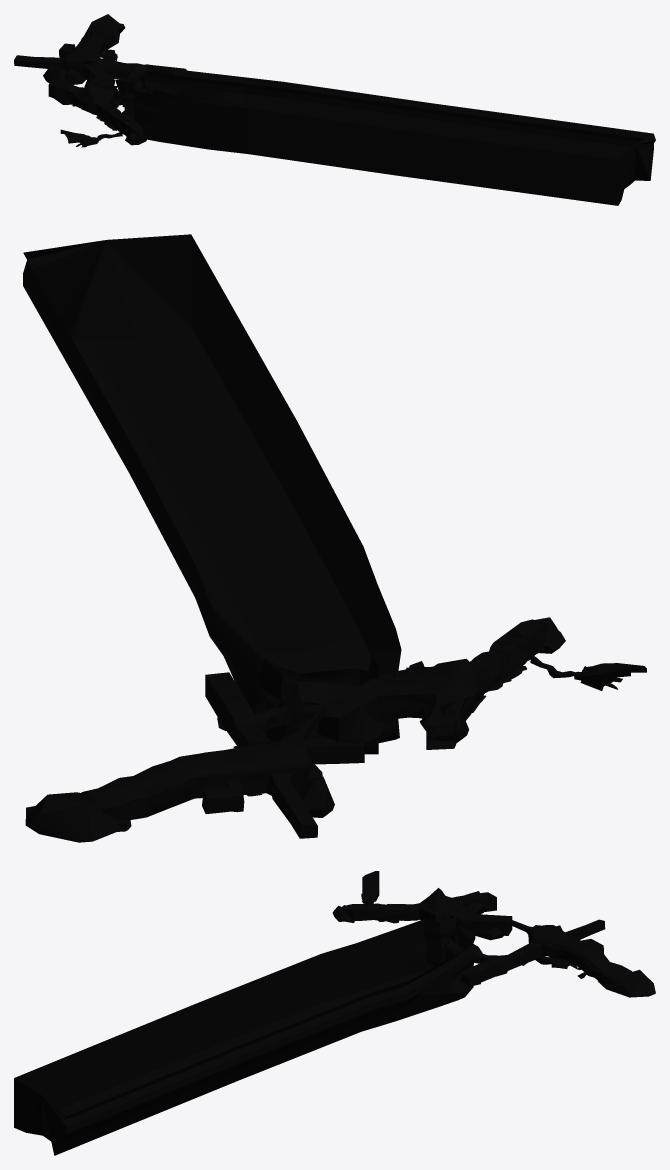
The model's file is JAM_Ground.fbx.
The picture shows the model from 3 angles, top to bottom: view 1: azimuth 30°, elevation 25°; view 2: azimuth 150°, elevation 25°; view 3: azimuth 270°, elevation 25°; orthographic projection. The views are drawn at different scales.
Visible parts, largest first — view 1: ENV_Ground; view 2: ENV_Ground; view 3: ENV_Ground.
Boxes of the visible parts, x1=… form: ENV_Ground: x1=14, y1=14, x2=655, y2=205; ENV_Ground: x1=23, y1=234, x2=646, y2=842; ENV_Ground: x1=14, y1=871, x2=655, y2=1155.
Bounding box in the file's own units: 327 × 41.93 × 375.
